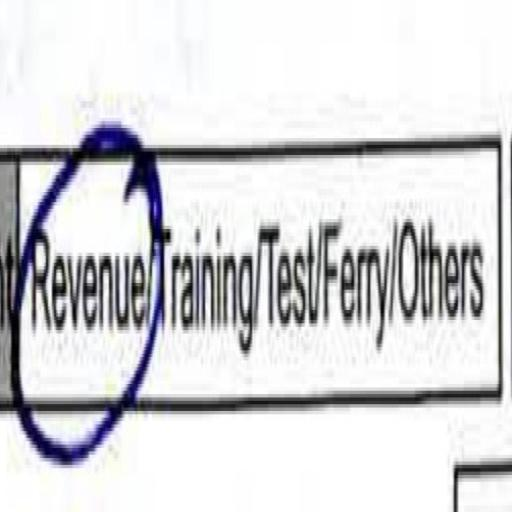check: (23, 119, 156, 469)
